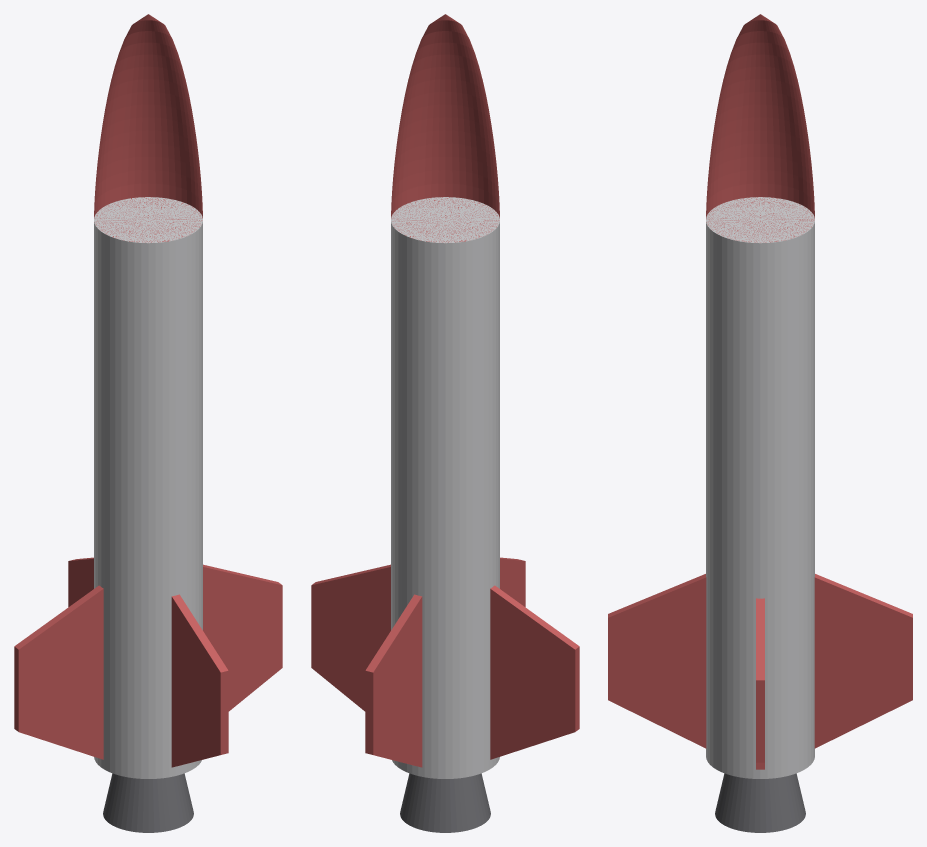
The model's file is rocket.glb.
3 views of the same model, side by side, from view 1: azimuth 30°, elevation 25°; view 2: azimuth 150°, elevation 25°; view 3: azimuth 270°, elevation 25° (orthographic).
Visible parts, largest first — view 1: body, fins, nose, nozzle; view 2: body, fins, nose, nozzle; view 3: body, fins, nose, nozzle.
Part boxes in pixels (left/top/right/bottom): body: left=94, top=197, right=202, bottom=778; fins: left=14, top=557, right=282, bottom=767; nose: left=94, top=14, right=202, bottom=242; nozzle: left=103, top=773, right=193, bottom=832; body: left=391, top=197, right=499, bottom=778; fins: left=311, top=557, right=579, bottom=767; nose: left=391, top=14, right=499, bottom=242; nozzle: left=400, top=773, right=490, bottom=832; body: left=706, top=197, right=814, bottom=778; fins: left=608, top=574, right=912, bottom=769; nose: left=706, top=14, right=814, bottom=242; nozzle: left=715, top=773, right=805, bottom=832.
Bounding box in the file's own units: 67 × 194 × 67.
